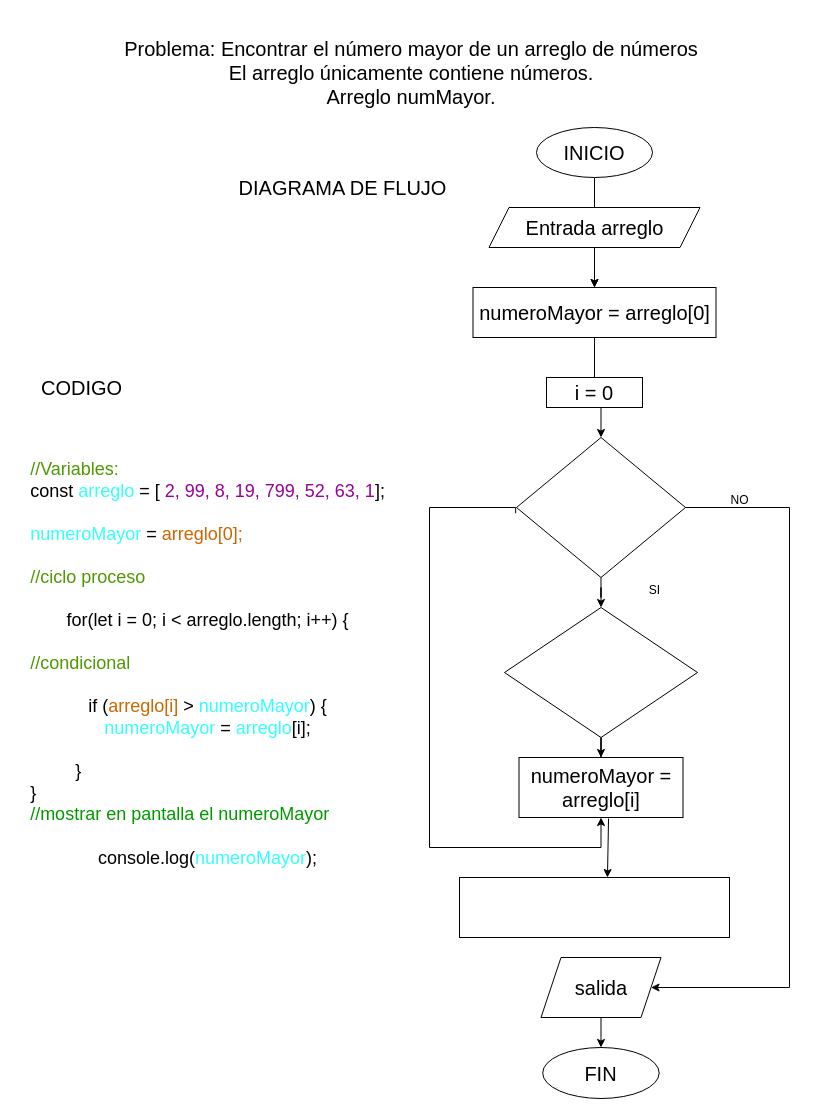
Some shapes in this 815 by 1116 pixel diagram are drawn without their labels. The shapes that lost their labels are listed below. From the top down, each one's centre as x and y in pixels, then its label:
At point (601, 507): "i < arreglo.length".
At point (601, 672): "arreglo[i] > numeroMayor".
At point (594, 907): "console.log(numeroMayor)".
